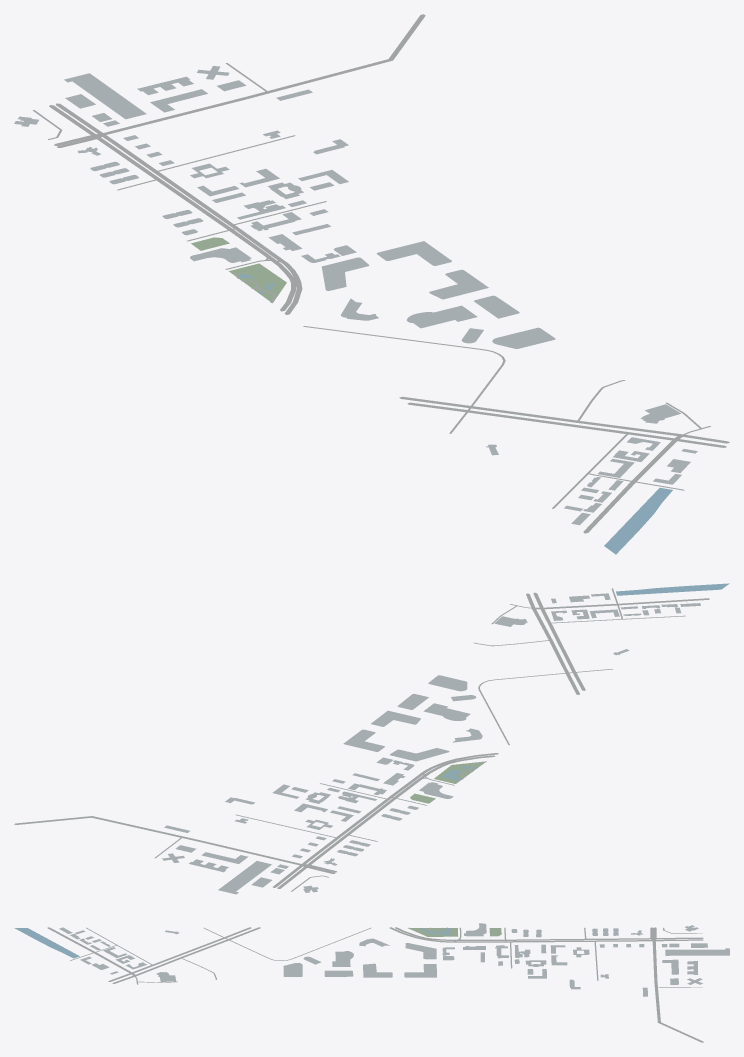
The model's file is overview-known--3_0.glb.
3 renders of one model, top to bottom at view 1: azimuth 30°, elevation 25°; view 2: azimuth 150°, elevation 25°; view 3: azimuth 270°, elevation 25°, orthographic. The views are drawn at different scales.
Size of the model in its own units: 625 by 0.2149 by 1589.
